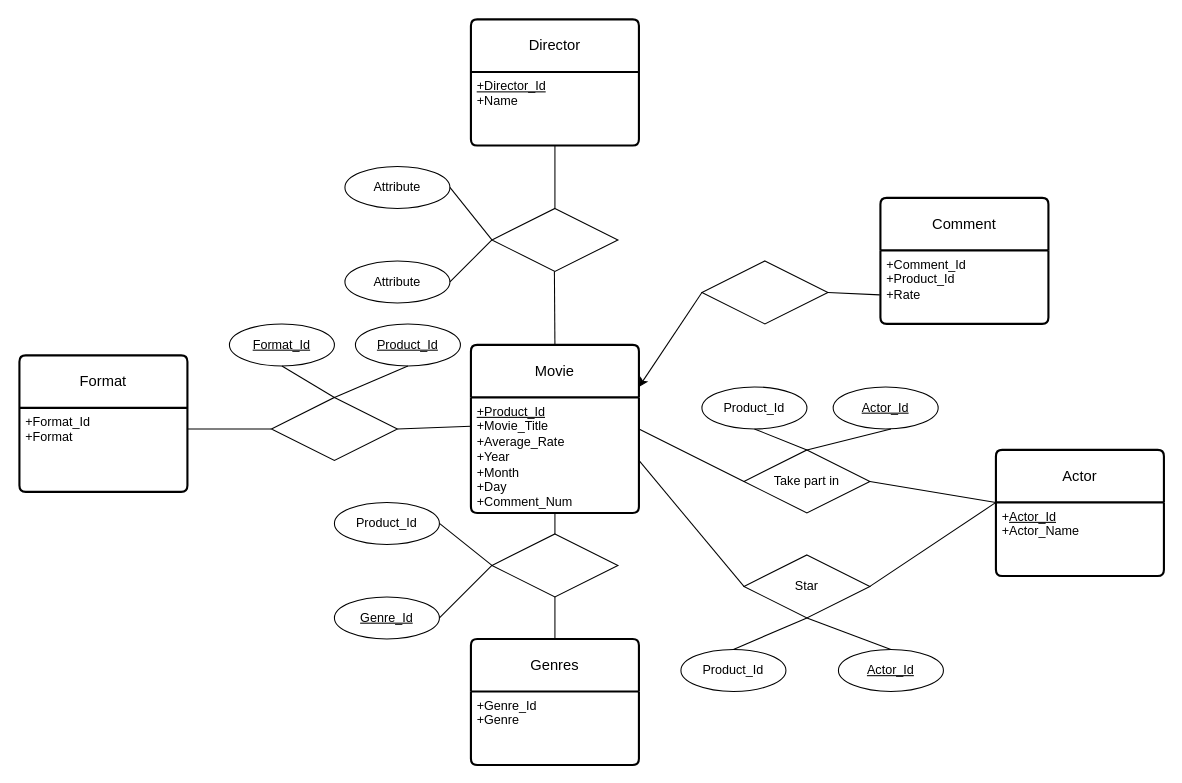
Image size: 1182x783. Some labels were removed from this diagram. Each missing label, with the centre of its shape:
Direct: point 554,239
Has Comment: point 764,292
Has Format: point 333,428
Has Genres: point 554,565
